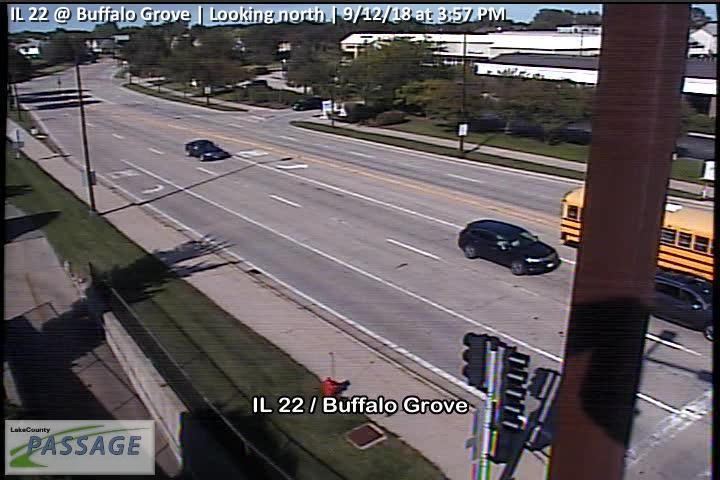SUV: (560, 185, 712, 282), (457, 219, 560, 276), (648, 270, 712, 341)
Sedan: (186, 139, 226, 161)
